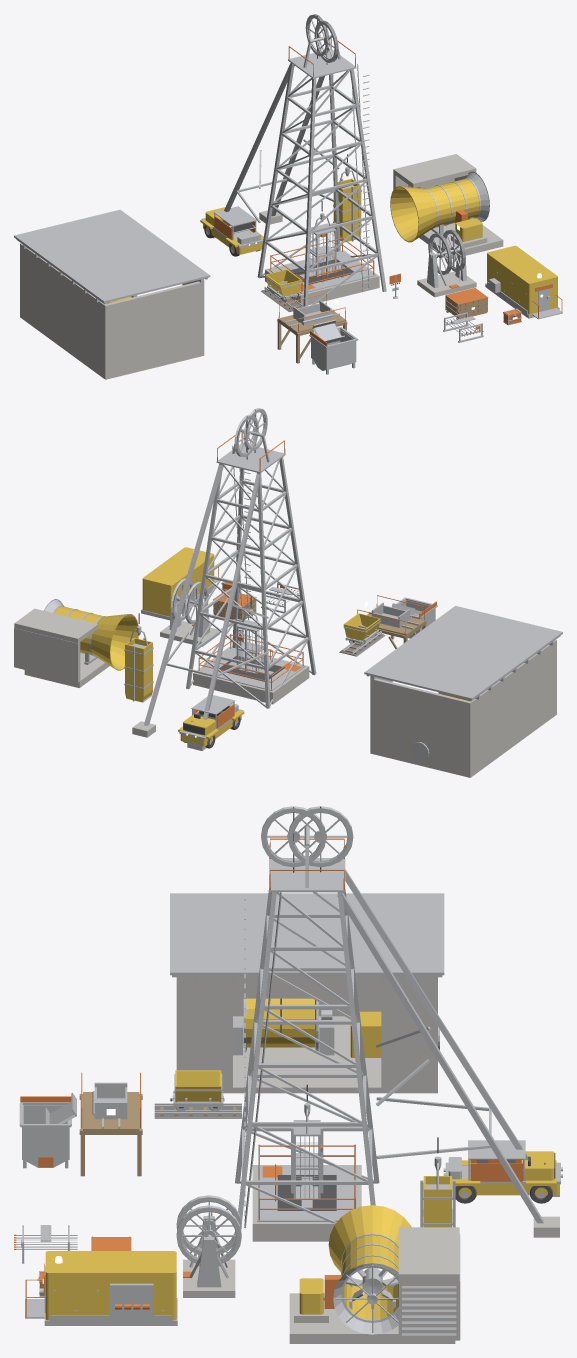
Rendered from underground-mine-and-shaft-works-surface-shaft-headwor-6f9d9c50.glb.
The picture shows the model from 3 angles, top to bottom: view 1: azimuth 30°, elevation 25°; view 2: azimuth 150°, elevation 25°; view 3: azimuth 270°, elevation 25°; orthographic projection. The views are drawn at different scales.
Visible parts, largest first — view 1: 003-winder-house/0, 000-shaft-headframe/0, 003-winder-house/1, 004-main-fan-house/1, 004-main-fan-house/0, 014-refuge-chamber/0, 007-rail-tipple/1, 001-shaft-collar/1, 001-shaft-collar/0, 015-personnel-carrier/1, 004-main-fan-house/2, 002-man-cage/0 (+16 smaller); view 2: 000-shaft-headframe/0, 003-winder-house/0, 003-winder-house/1, 004-main-fan-house/0, 014-refuge-chamber/0, 004-main-fan-house/1, 001-shaft-collar/0, 006-ore-skip/0, 001-shaft-collar/1, 002-man-cage/0, 015-personnel-carrier/0, 007-rail-tipple/1 (+10 smaller); view 3: 000-shaft-headframe/0, 003-winder-house/1, 003-winder-house/0, 004-main-fan-house/0, 014-refuge-chamber/0, 004-main-fan-house/1, 004-main-fan-house/2, 003-winder-house/2, 014-refuge-chamber/1, 007-rail-tipple/1, 001-shaft-collar/1, 007-rail-tipple/0 (+20 smaller).
Boxes of the visible parts, <box> form: 003-winder-house/0: <box>20,243,204,379</box>; 000-shaft-headframe/0: <box>224,34,386,306</box>; 003-winder-house/1: <box>14,209,210,304</box>; 004-main-fan-house/1: <box>390,179,482,242</box>; 004-main-fan-house/0: <box>393,154,503,258</box>; 014-refuge-chamber/0: <box>487,245,557,314</box>; 007-rail-tipple/1: <box>284,309,358,374</box>; 001-shaft-collar/1: <box>268,251,375,293</box>; 001-shaft-collar/0: <box>265,250,379,305</box>; 015-personnel-carrier/1: <box>201,206,263,247</box>; 004-main-fan-house/2: <box>423,171,489,235</box>; 002-man-cage/0: <box>309,213,336,277</box>; 000-shaft-headframe/0: <box>144,429,316,725</box>; 003-winder-house/0: <box>370,640,556,777</box>; 003-winder-house/1: <box>364,606,562,761</box>; 004-main-fan-house/0: <box>14,608,109,687</box>; 014-refuge-chamber/0: <box>142,547,214,616</box>; 004-main-fan-house/1: <box>54,606,138,670</box>; 001-shaft-collar/0: <box>193,647,309,704</box>; 006-ore-skip/0: <box>125,638,152,702</box>; 001-shaft-collar/1: <box>199,648,305,690</box>; 002-man-cage/0: <box>236,609,264,674</box>; 015-personnel-carrier/0: <box>178,710,244,746</box>; 007-rail-tipple/1: <box>368,597,437,639</box>; 000-shaft-headframe/0: <box>235,826,543,1228</box>; 003-winder-house/1: <box>170,893,444,1055</box>; 003-winder-house/0: <box>176,977,437,1093</box>; 004-main-fan-house/0: <box>289,1227,460,1343</box>; 014-refuge-chamber/0: <box>45,1251,176,1320</box>; 004-main-fan-house/1: <box>299,1205,411,1319</box>; 004-main-fan-house/2: <box>323,1233,456,1335</box>; 003-winder-house/2: <box>245,998,381,1057</box>; 014-refuge-chamber/1: <box>25,1265,177,1325</box>; 007-rail-tipple/1: <box>19,1093,120,1168</box>; 001-shaft-collar/1: <box>257,1165,357,1221</box>; 007-rail-tipple/0: <box>79,1092,142,1176</box>.
Bounding box in the file's own units: 36.27 × 20.56 × 25.2.
